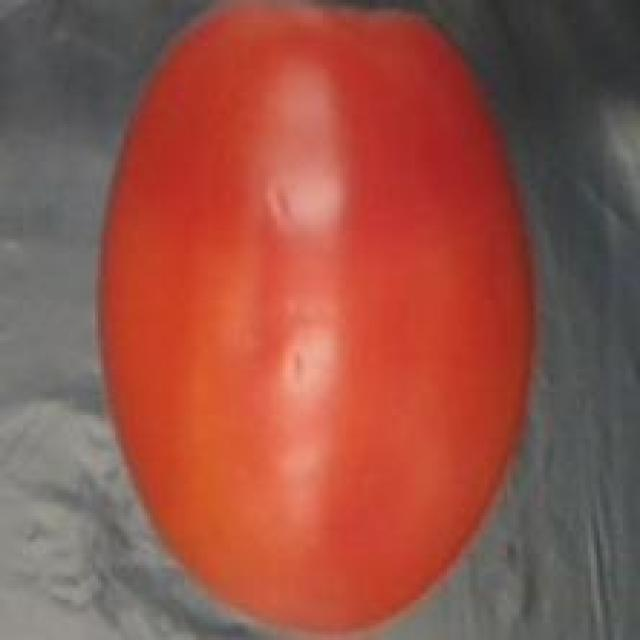ripe tomato: (81, 0, 565, 640)
